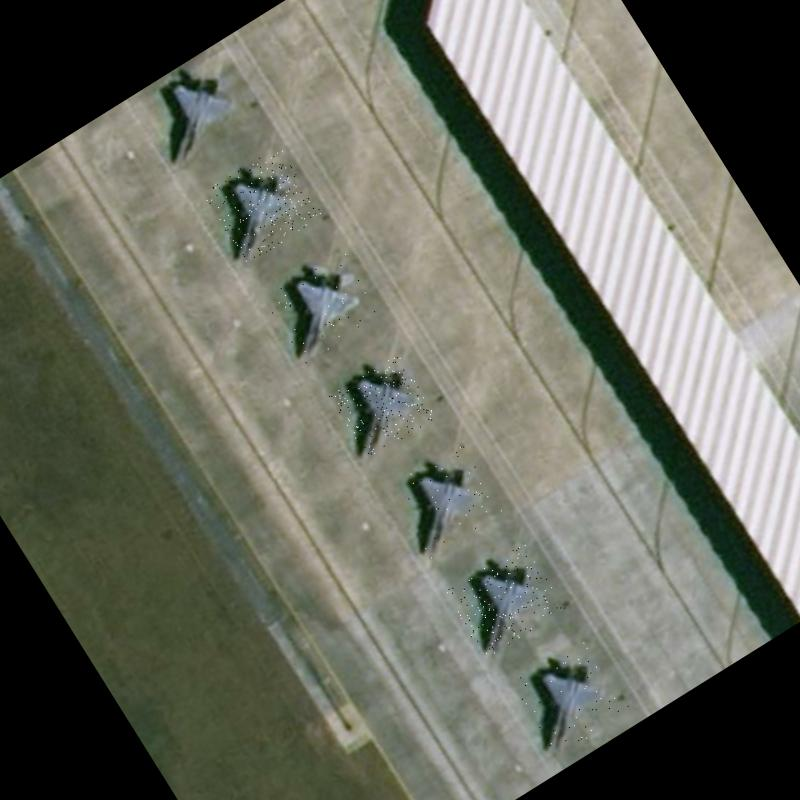A13: (510, 634, 633, 757), (261, 244, 385, 364), (202, 144, 324, 264), (443, 542, 566, 659), (387, 442, 506, 560), (140, 54, 260, 171), (330, 353, 438, 460)
